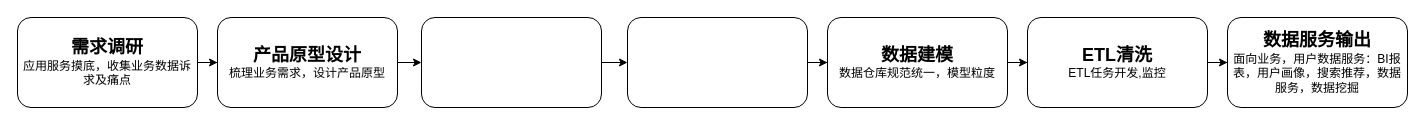
Image size: 1425x125. Some labels were removed from this diagram. Here are the shapes that lost their labels. From the top down, the box of each, then its label:
(420, 16, 602, 108): 数据集成 采集，清洗数据
(626, 16, 808, 108): 规范定义 口径定义，命名定义
